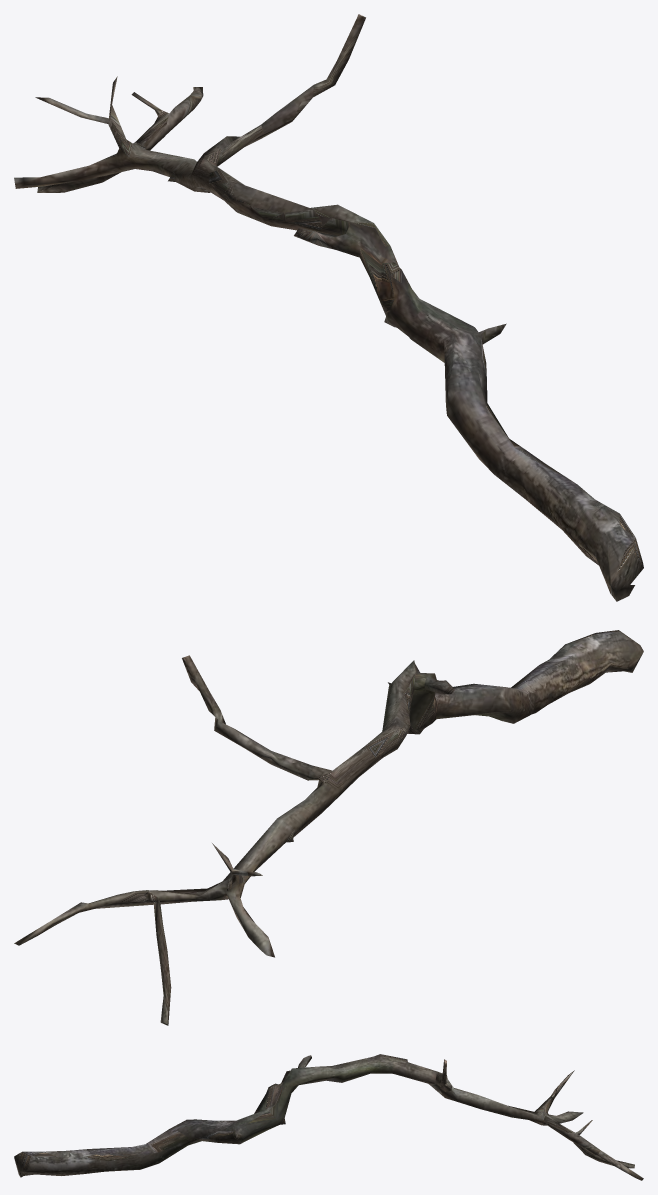
3 renders of one model, top to bottom at view 1: azimuth 30°, elevation 25°; view 2: azimuth 150°, elevation 25°; view 3: azimuth 270°, elevation 25°, orthographic. The views are drawn at different scales.
Parts seen in each view (by area): view 1: dry_branches_medium_01__a_lod1; view 2: dry_branches_medium_01__a_lod1; view 3: dry_branches_medium_01__a_lod1.
Part boxes in pixels (left/top/right/bottom): dry_branches_medium_01__a_lod1: left=14, top=14, right=643, bottom=601; dry_branches_medium_01__a_lod1: left=14, top=630, right=643, bottom=1025; dry_branches_medium_01__a_lod1: left=14, top=1054, right=643, bottom=1180.
Bounding box in the file's own units: 0.3205 × 0.3401 × 1.3.
Materials: 1 (1 with a texture image).
